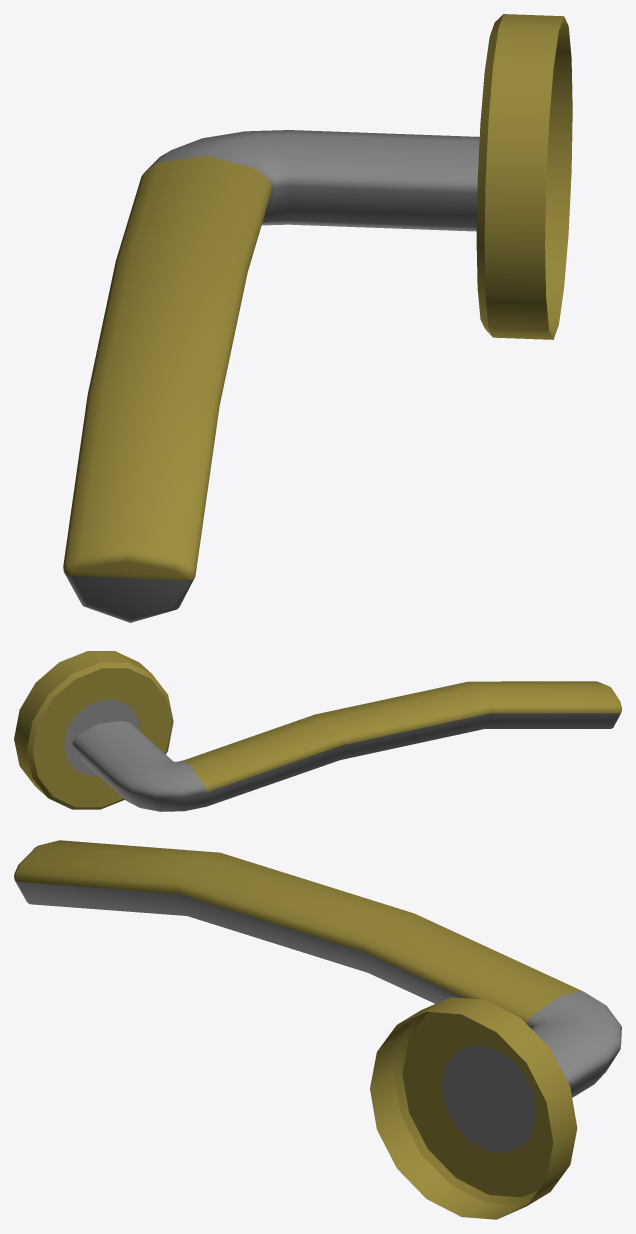
3 renders of one model, top to bottom at view 1: azimuth 30°, elevation 25°; view 2: azimuth 150°, elevation 25°; view 3: azimuth 270°, elevation 25°, orthographic. The views are drawn at different scales.
Visible parts, largest first — view 1: part6:handle (×2); view 2: part6:handle (×2); view 3: part6:handle (×2).
Part boxes in pixels (x1=…): part6:handle (×2): x1=63, y1=14, x2=572, y2=622; part6:handle (×2): x1=14, y1=651, x2=621, y2=811; part6:handle (×2): x1=14, y1=840, x2=621, y2=1219.
Bounding box in the file's own units: 0.1719 × 0.056 × 0.1522.
